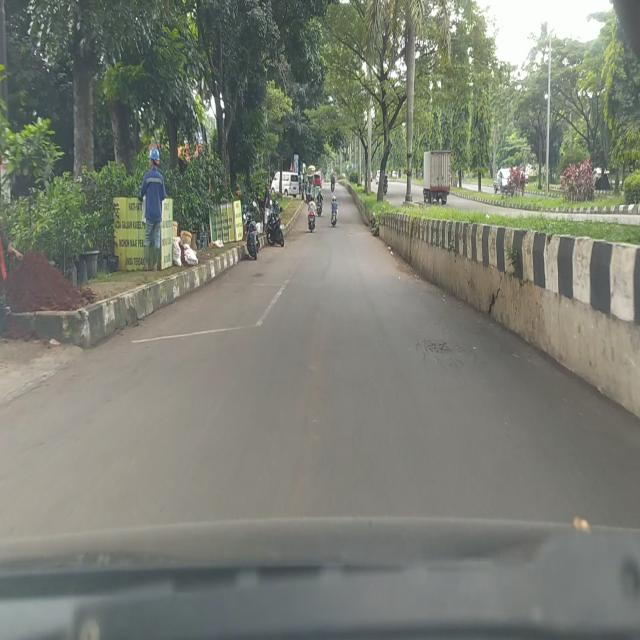Drain Hole: (416, 338, 472, 366)
